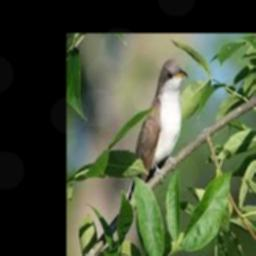Cuckoo: (123, 59, 189, 210)
